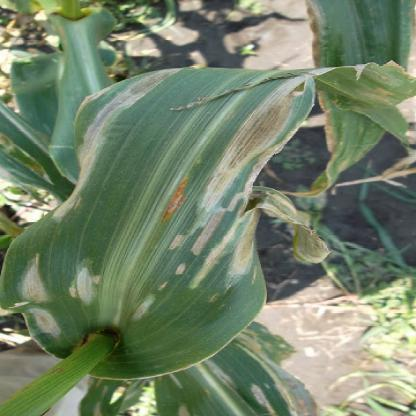Corn leaf blight: (18, 61, 410, 357)
